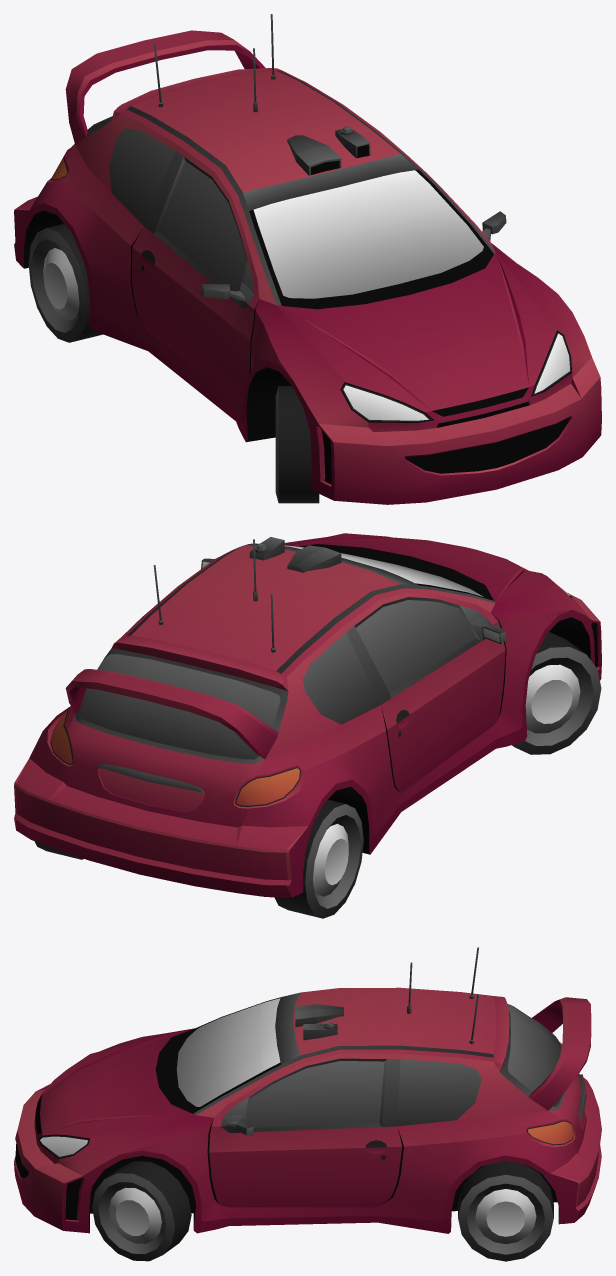
3 views of the same model, one above another, from view 1: azimuth 30°, elevation 25°; view 2: azimuth 150°, elevation 25°; view 3: azimuth 270°, elevation 25° (orthographic). The views are drawn at different scales.
Parts seen in each view (by area): view 1: Body.001, RRW.001, FRW.001; view 2: Body.001, FRW.001, RRW.001; view 3: Body.001, RLW.001, FLW.001.
Boxes of the visible parts, <box> form: Body.001: <box>14,14,601,504</box>; RRW.001: <box>28,224,102,342</box>; FRW.001: <box>275,386,319,503</box>; Body.001: <box>14,533,601,897</box>; FRW.001: <box>512,632,601,754</box>; RRW.001: <box>274,799,363,918</box>; Body.001: <box>14,947,601,1233</box>; RLW.001: <box>458,1161,553,1261</box>; FLW.001: <box>92,1161,191,1261</box>.
Size of the model in its own units: 0.7181 by 0.635 by 1.39.
Materials: 1 (1 with a texture image).
